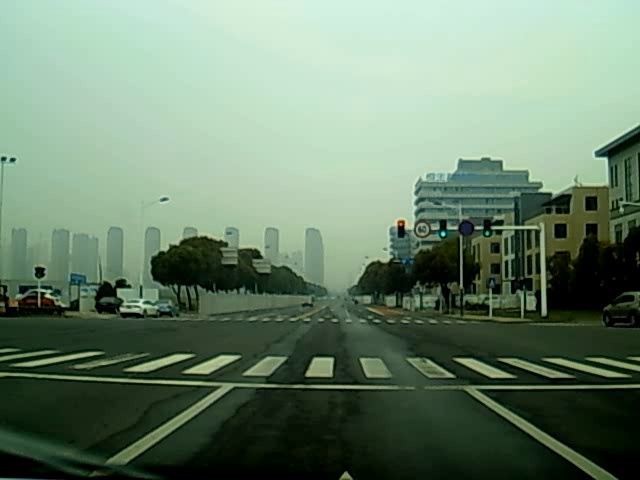Traffic_Light_go: (482, 220, 491, 241), (438, 219, 446, 241)
Traffic_Light_stop: (396, 219, 405, 240)
